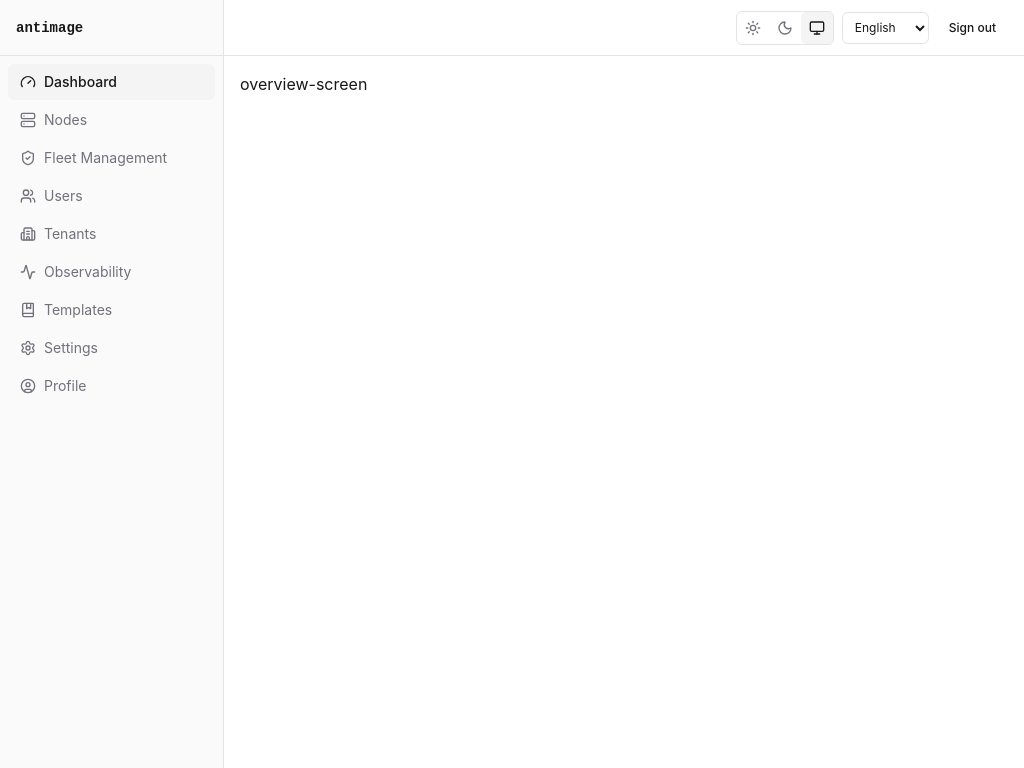
command palette › navigates to the chosen destination
The width and height of the screenshot is (1024, 768).
Expected: the text "overview-screen" is shown, x1=240 y1=74 x2=367 y2=94
Type keys "{Control>}k{/Control}"
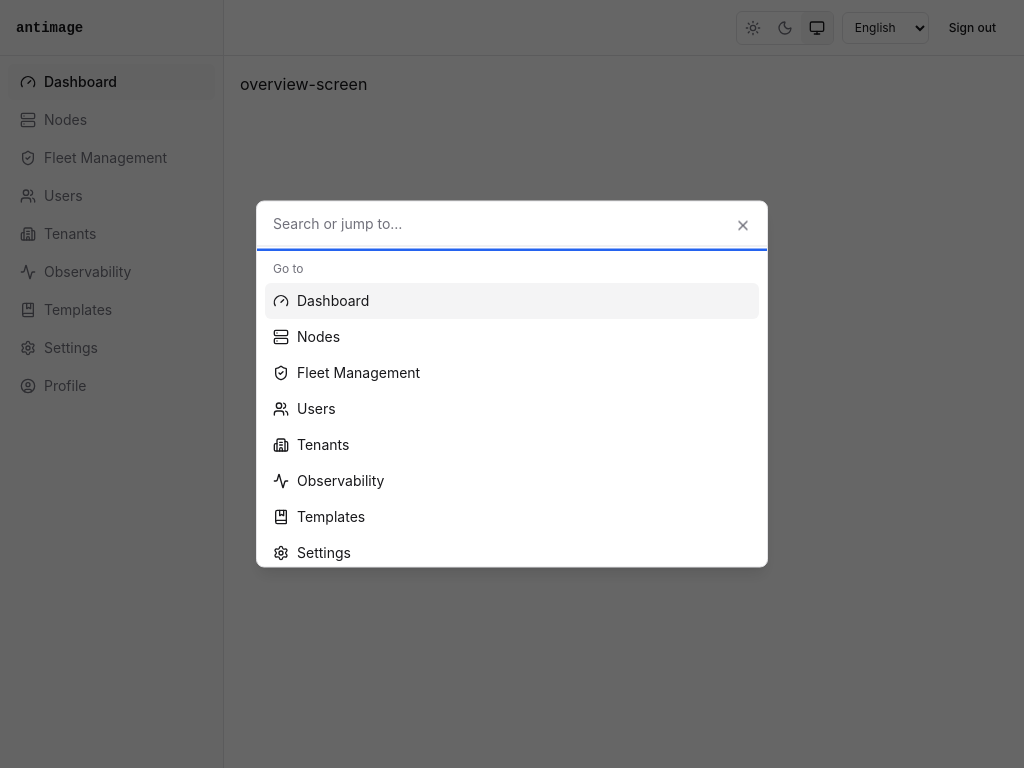
Click the option "Nodes" at [307, 336], box x1=273 y1=328 x2=340 y2=344
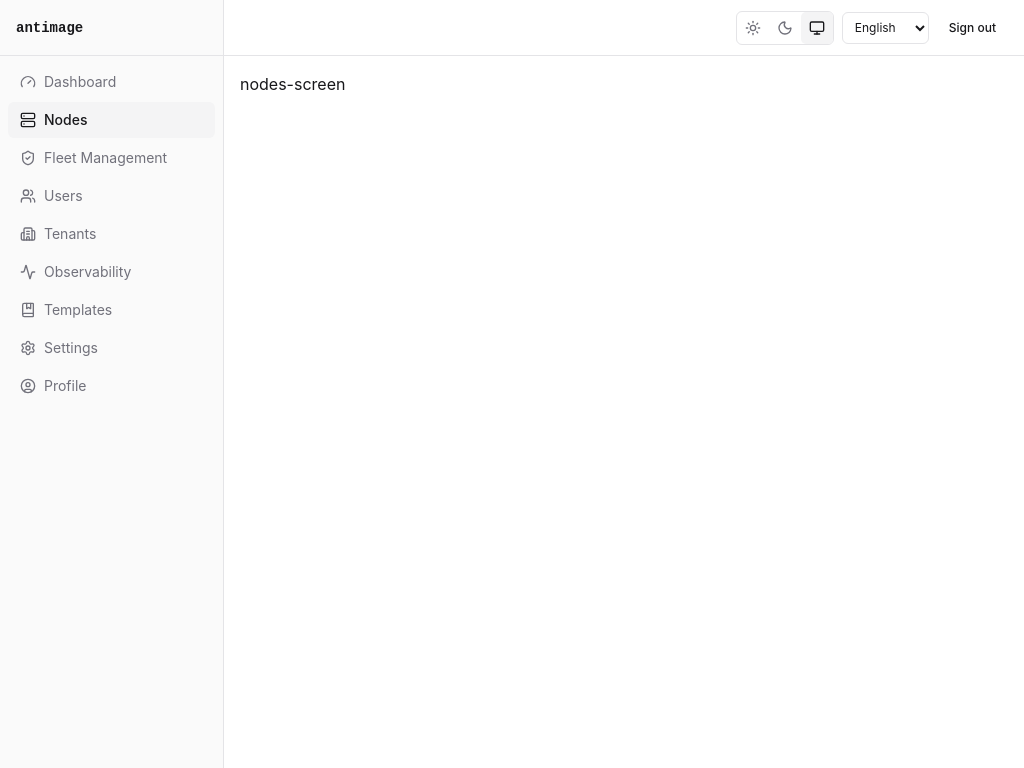
Now the text "nodes-screen" is shown, box x1=240 y1=74 x2=345 y2=94
Now the dialog is gone
